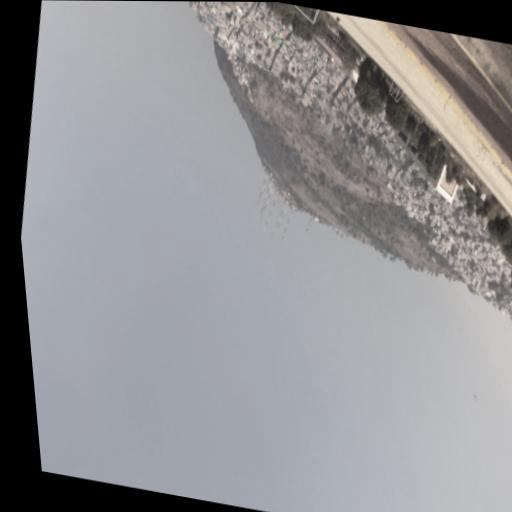drones: (470, 393, 479, 402)
